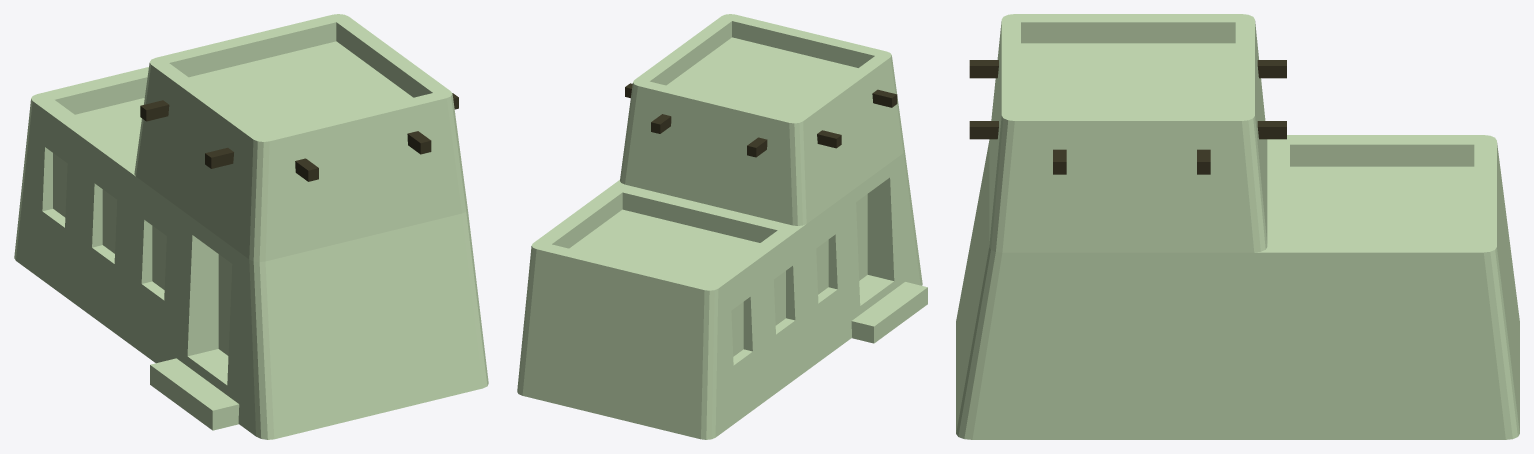
File: small_house_1.fbx
3 renders of one model, left to right at view 1: azimuth 30°, elevation 25°; view 2: azimuth 150°, elevation 25°; view 3: azimuth 270°, elevation 25°, orthographic. The views are drawn at different scales.
Visible parts, largest first — view 1: Cube; view 2: Cube; view 3: Cube.
Part boxes in pixels (bbox=[...]): Cube: bbox=[14, 14, 488, 439]; Cube: bbox=[517, 14, 927, 439]; Cube: bbox=[956, 14, 1519, 439].
Size of the model in its own units: 244 by 246 by 405.
